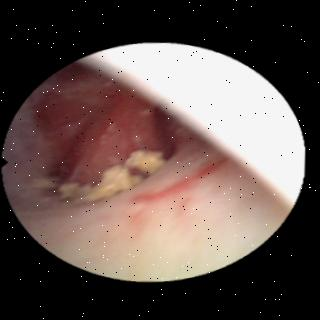stone: (58, 166, 141, 205), (125, 152, 164, 175)
tissue: (7, 68, 285, 278)
